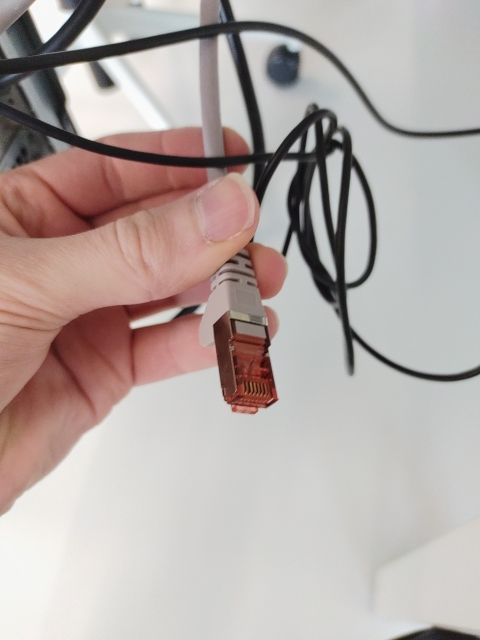Ethernet: (210, 317, 279, 415)
